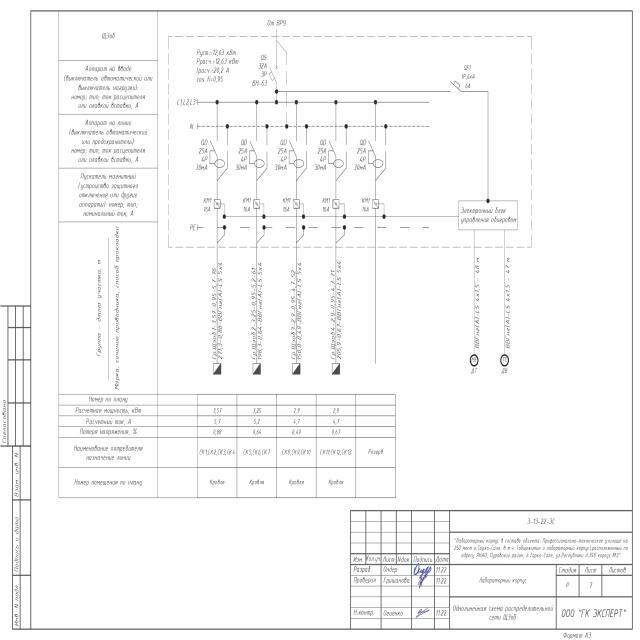-: (460, 203, 519, 226), (251, 62, 268, 88), (233, 146, 250, 171), (272, 148, 288, 172), (352, 147, 368, 171), (194, 147, 210, 171), (312, 148, 328, 171), (462, 72, 476, 90), (101, 30, 116, 43), (242, 205, 251, 213), (282, 205, 291, 213), (204, 205, 212, 214), (321, 205, 330, 213), (361, 205, 370, 213)
KM: (292, 198, 301, 210), (213, 198, 222, 210), (332, 197, 341, 209), (252, 198, 261, 209), (372, 198, 380, 210)
QF: (446, 80, 462, 95), (268, 63, 278, 85)
QFD: (208, 136, 226, 169), (327, 136, 345, 169), (366, 137, 384, 169), (248, 136, 265, 169), (288, 137, 305, 169)
